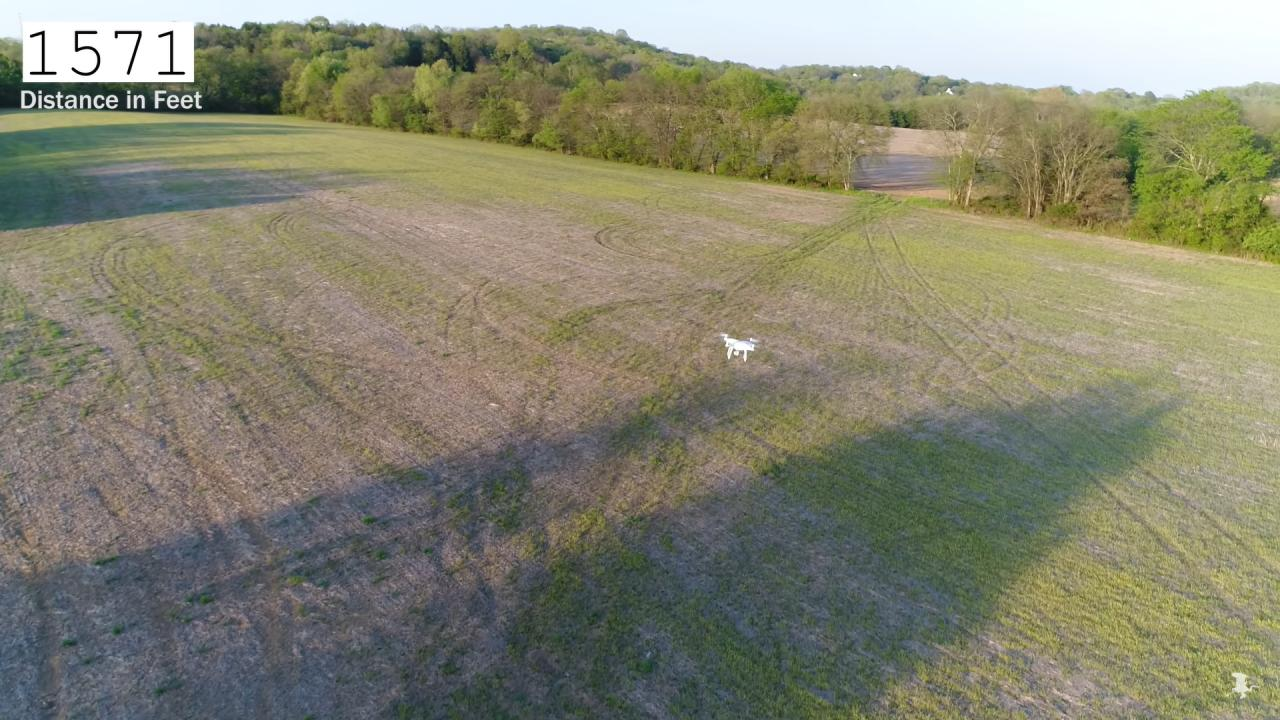Drone: (709, 324, 768, 368)
